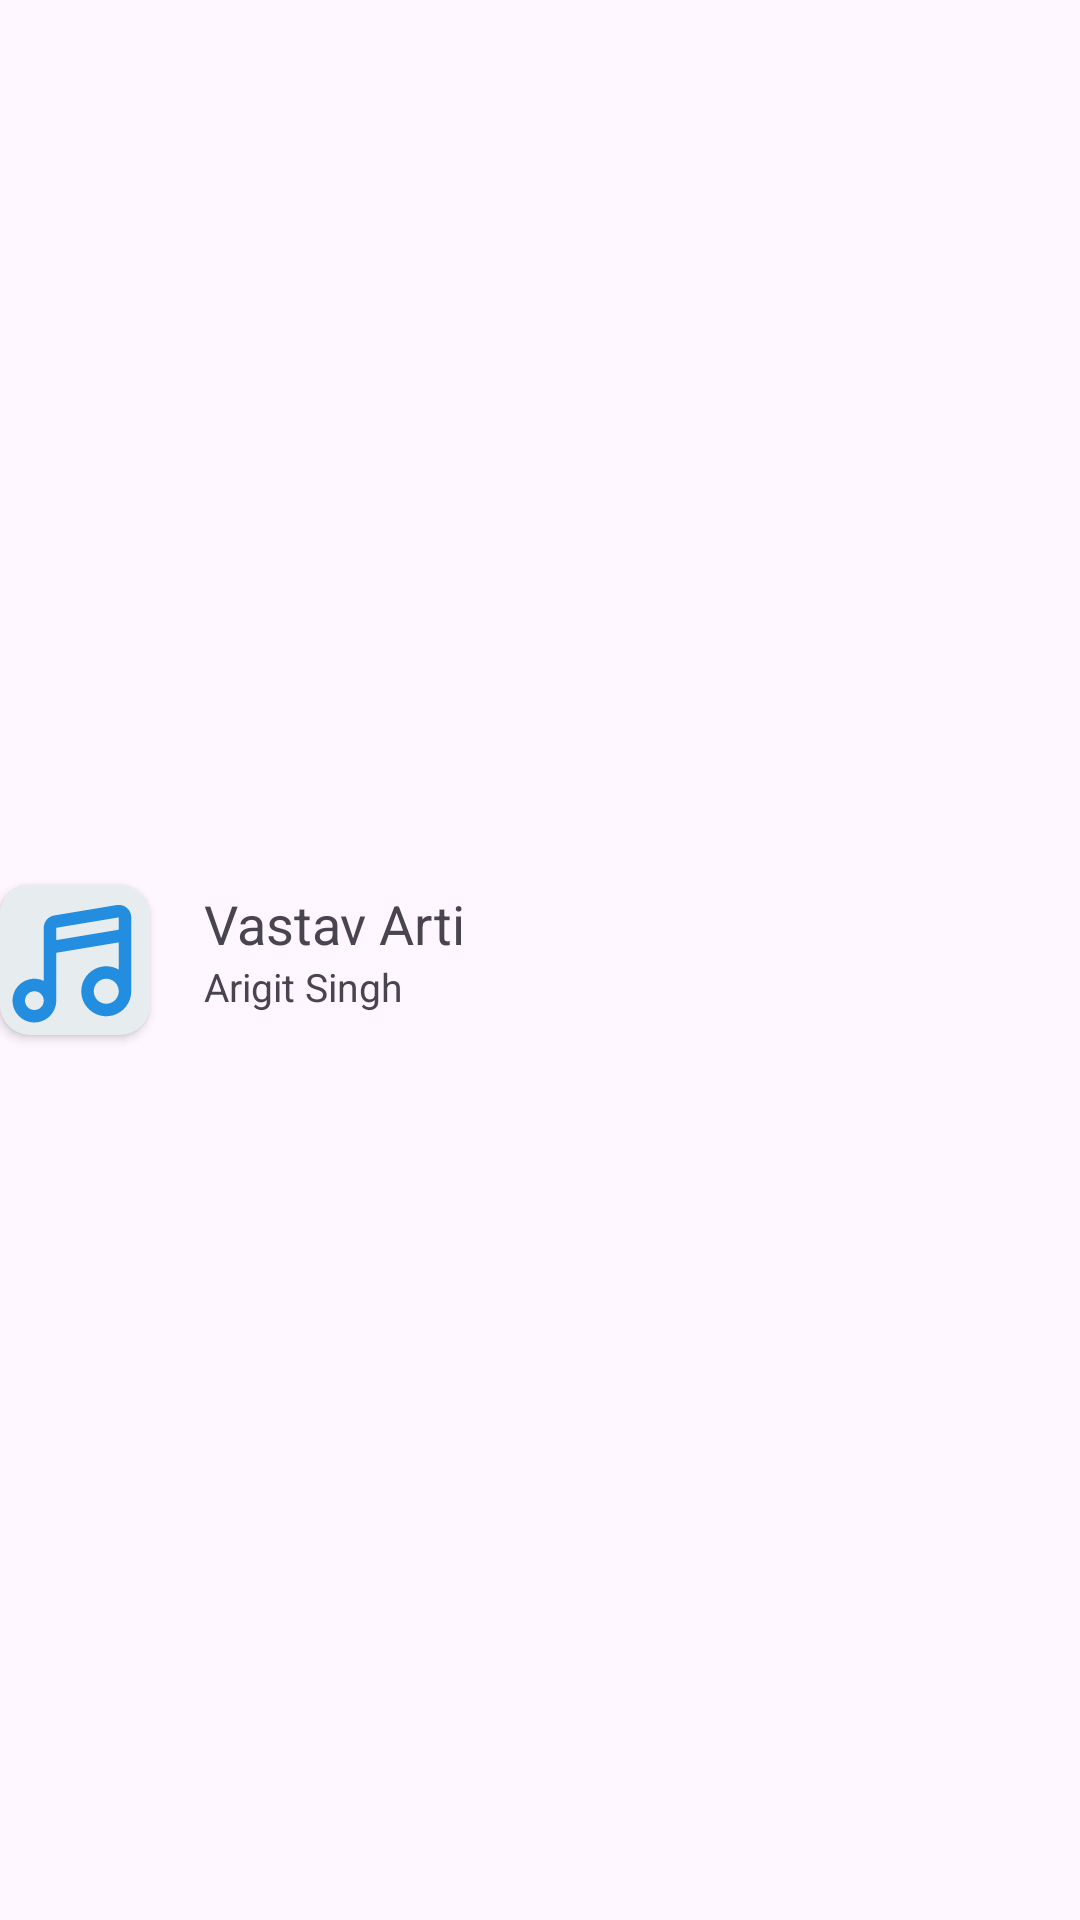

Icons on this 1080x1920 Android screen, each with the point to tap as (x,y):
music: (75,960)
